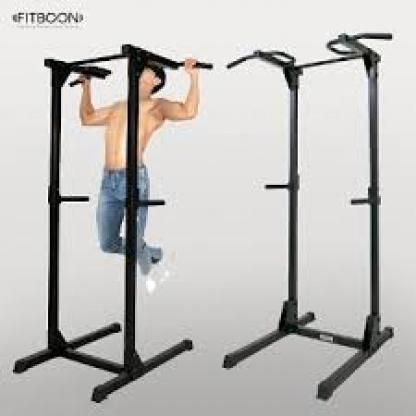chinning dipping: (15, 43, 212, 403), (223, 32, 395, 401)
